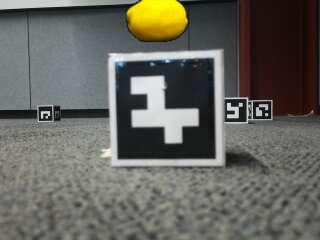lemon: (126, 0, 187, 41)
